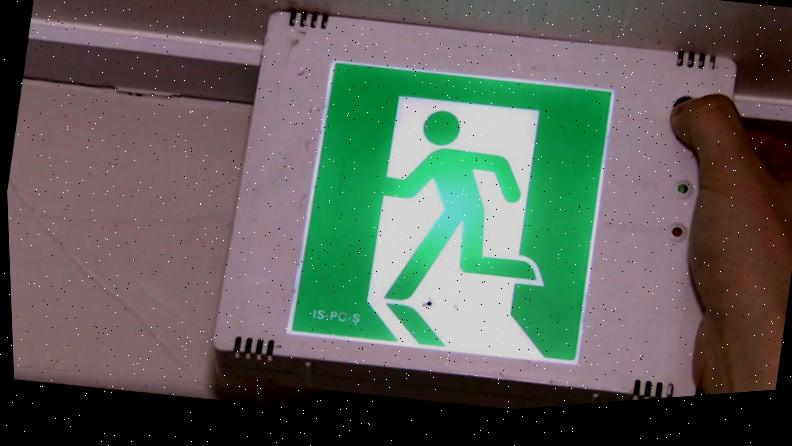emergency_exit: (210, 10, 739, 406), (285, 59, 616, 366)
